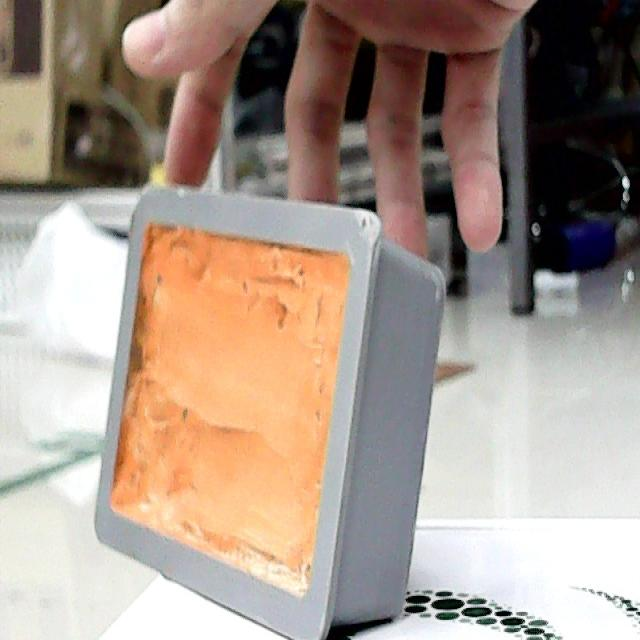block: (96, 184, 442, 640)
